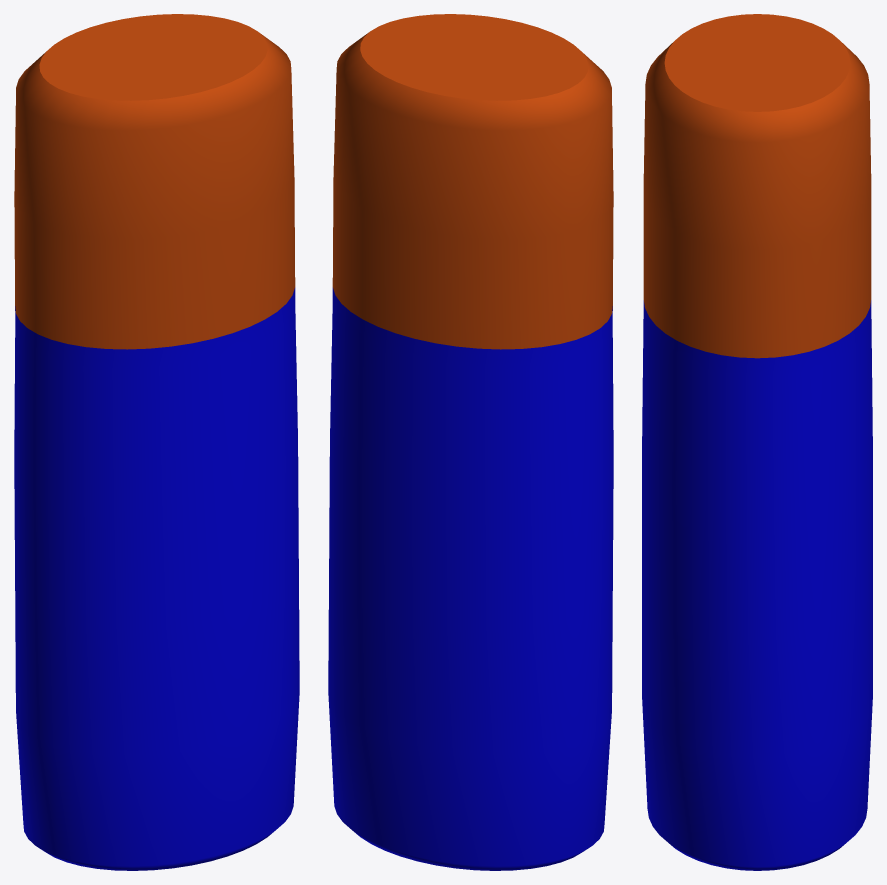
Rendered from Deodorant.fbx.
3 renders of one model, left to right at view 1: azimuth 30°, elevation 25°; view 2: azimuth 150°, elevation 25°; view 3: azimuth 270°, elevation 25°, orthographic. The views are drawn at different scales.
Visible parts, largest first — view 1: polySurface14; view 2: polySurface14; view 3: polySurface14.
Boxes of the visible parts, bbox=[...] form: polySurface14: bbox=[14, 14, 299, 870]; polySurface14: bbox=[328, 14, 613, 870]; polySurface14: bbox=[642, 14, 872, 870].
Bounding box in the file's own units: 2.49 × 7.03 × 1.95.
